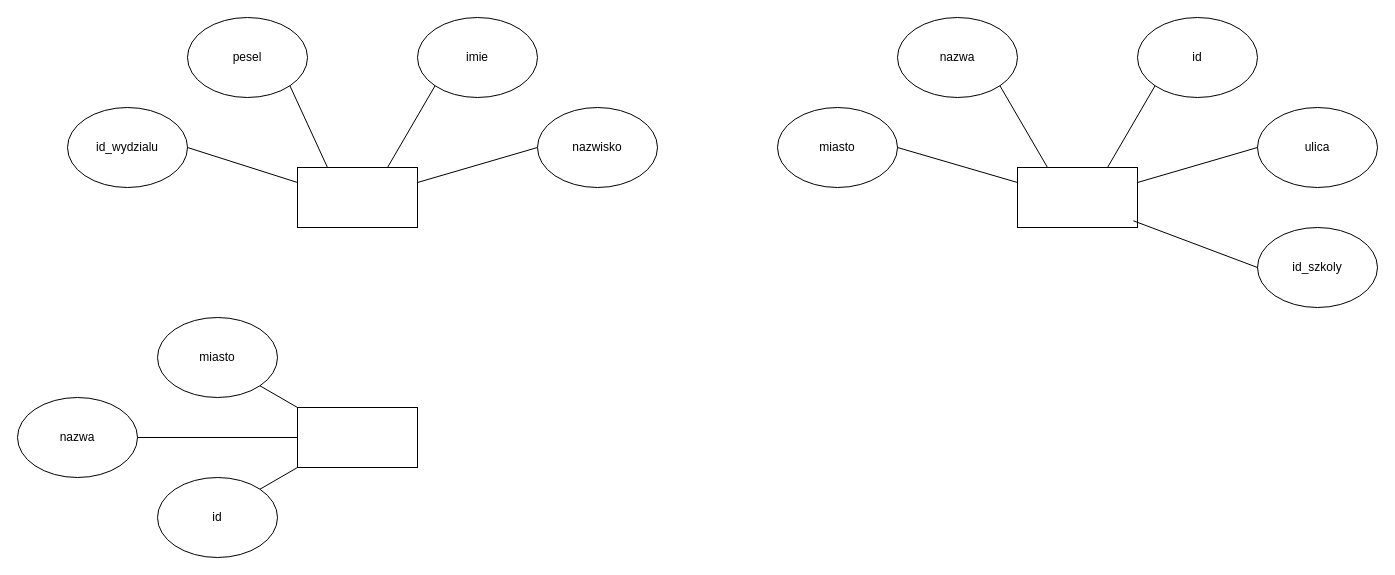
The diagram is 1395 pixels wide and 575 high, and some of its shapes have lost their labels. Here are the shapes that lost their labels. From the top down, the box of each, then its label:
(296, 166, 418, 228): Pracownicy
(1016, 166, 1138, 228): Wydzial
(296, 406, 418, 468): Szkoly
